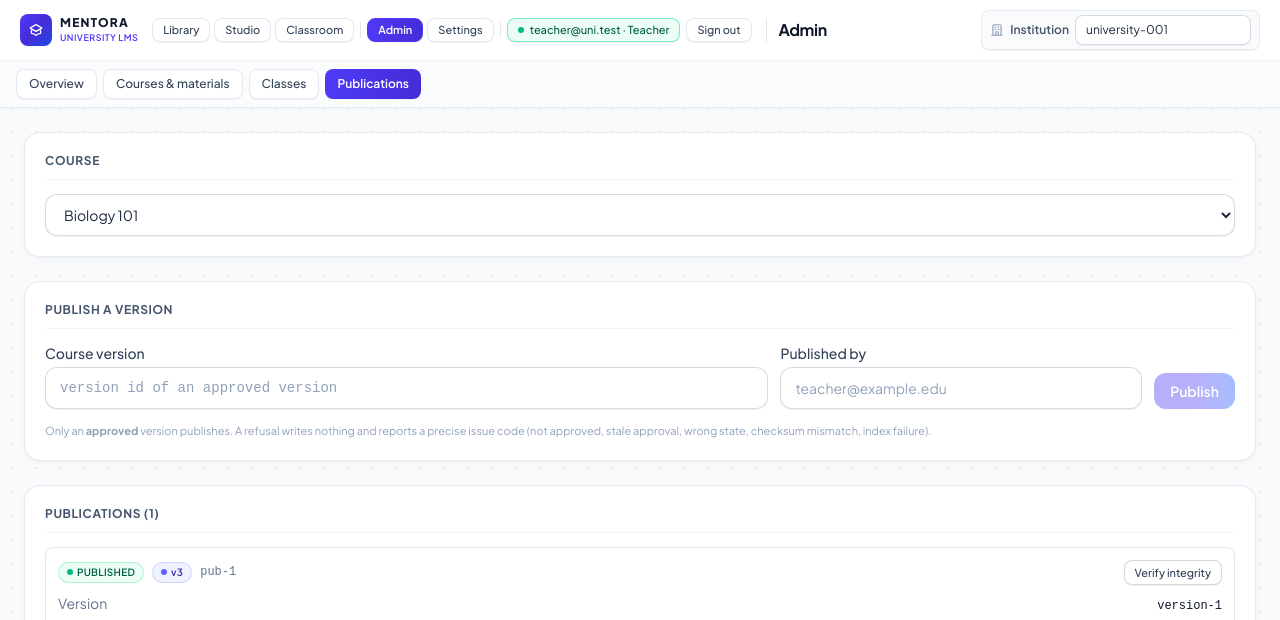
Scenario: AdminPage — publications › verifies a publication against the digest recorded at seal time
The width and height of the screenshot is (1280, 620).
Expected: the text "pub-1" is shown, left=200, top=564, right=236, bottom=580
Click the button "Verify integrity" at (1173, 572), box left=1124, top=560, right=1222, bottom=585
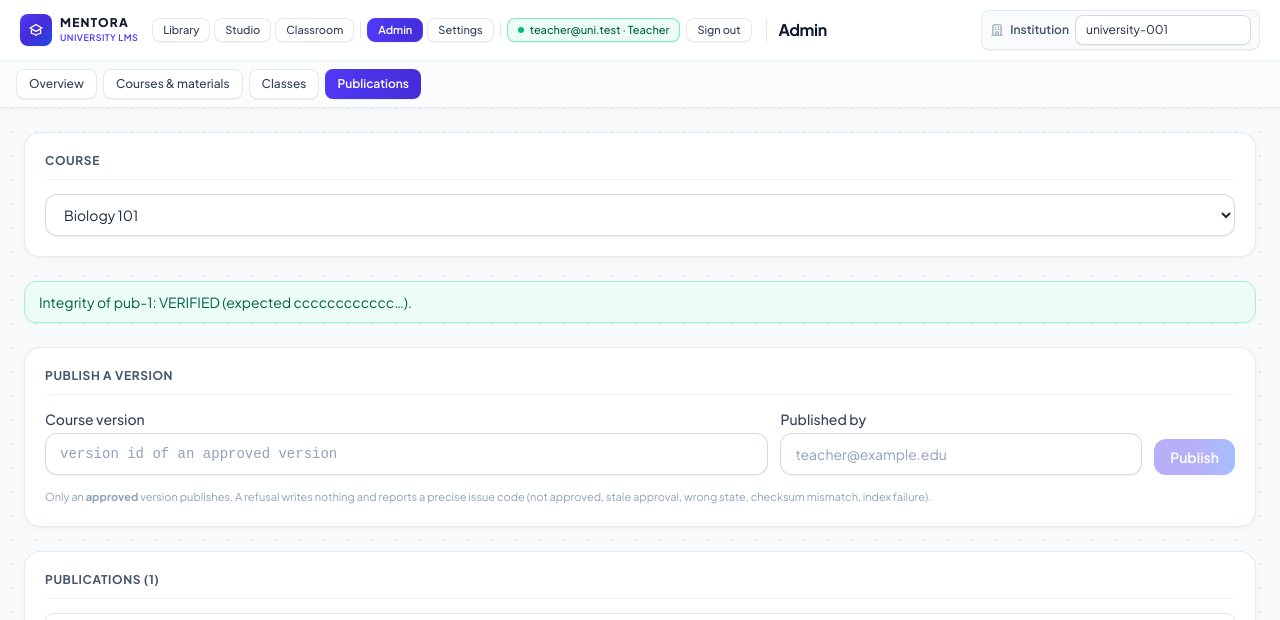
Expected: the text "Integrity of pub-1: VERIFIED" is shown, left=39, top=293, right=412, bottom=311
